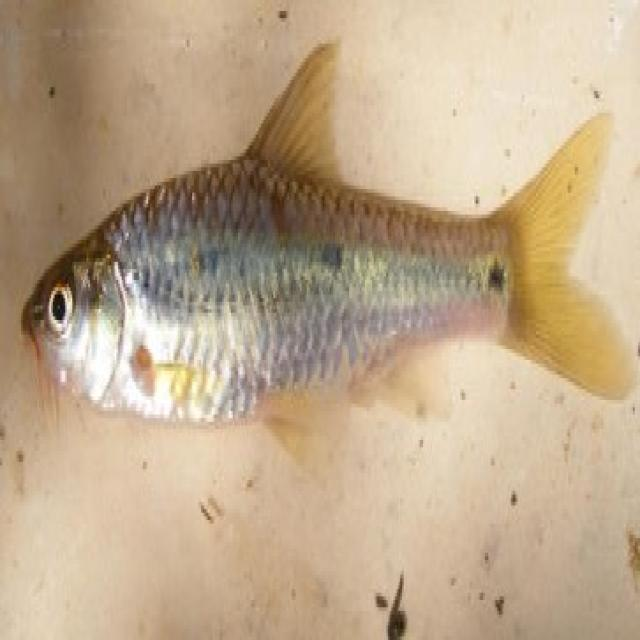Black-Spotted-Barb: (0, 23, 640, 488)
